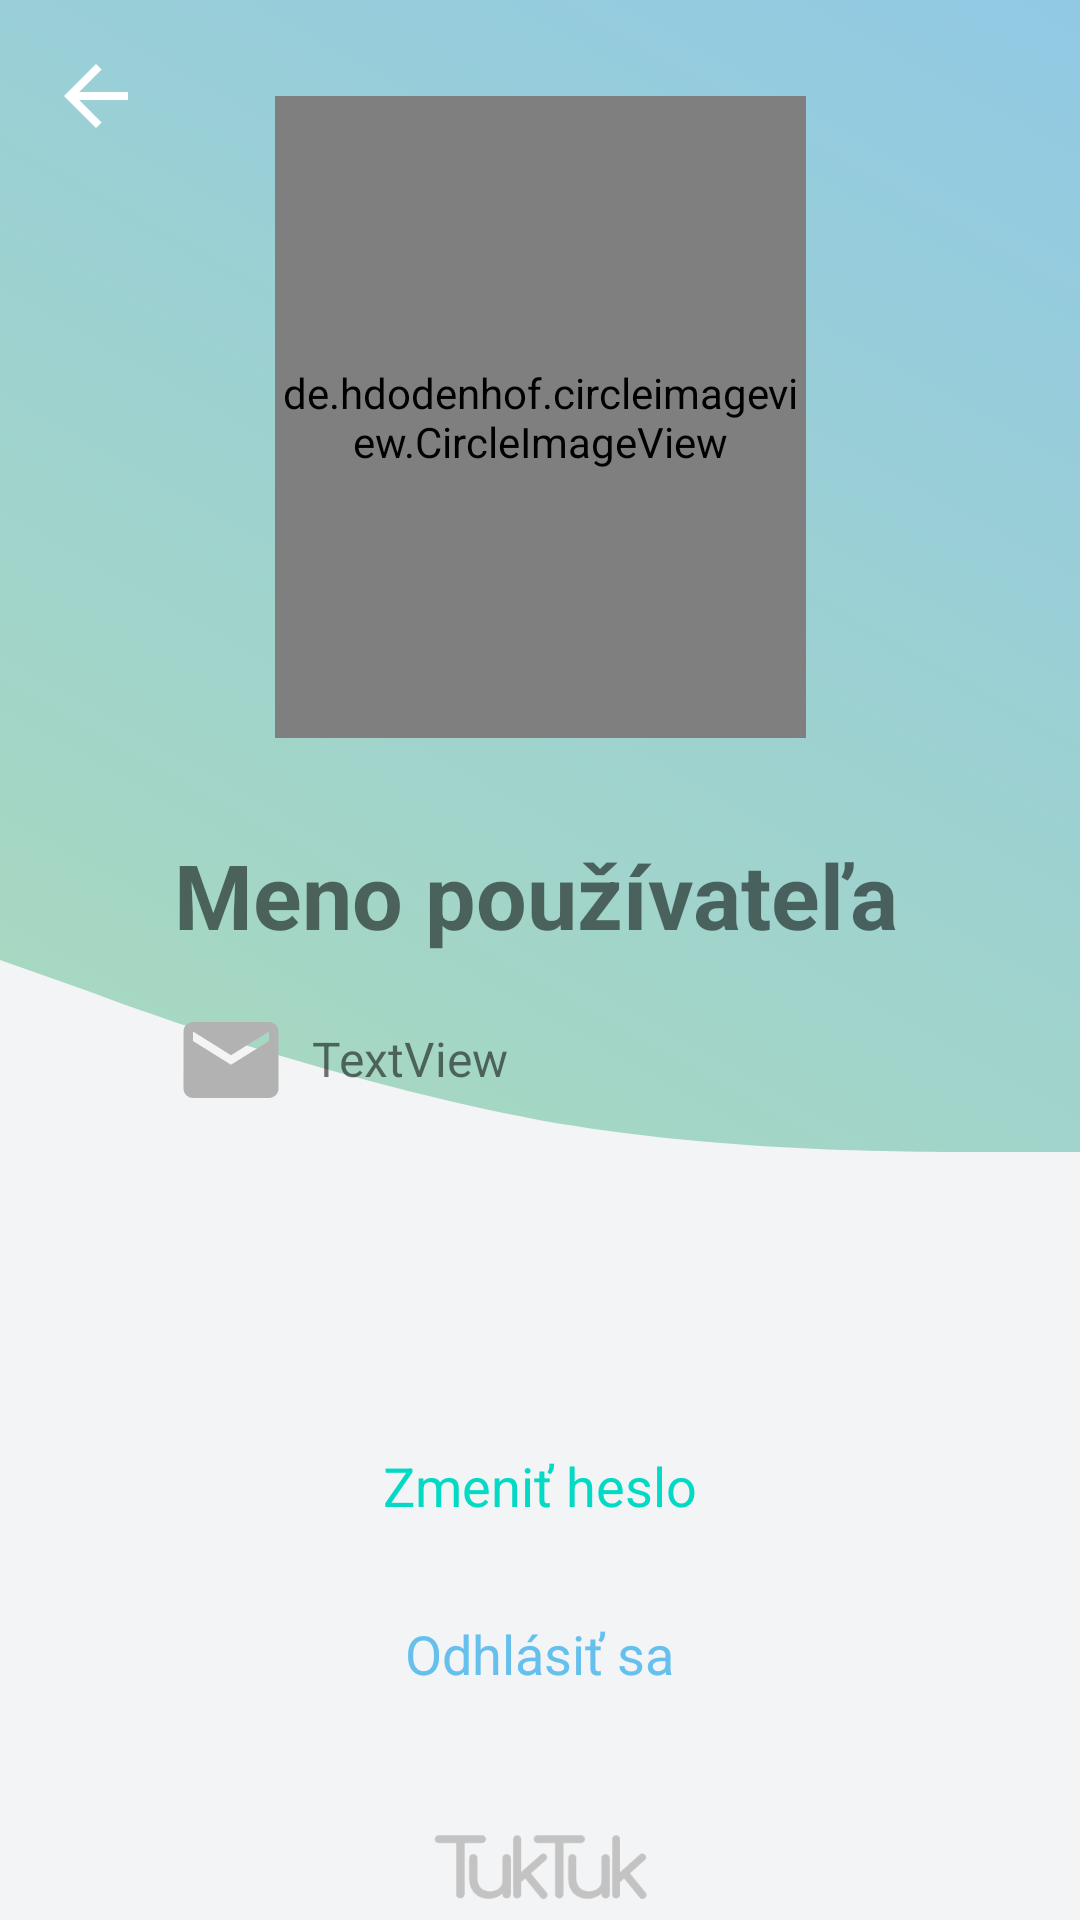

Named icons in this screenshot (1080 × 1920) and their centers, point (x, y):
mail: point (231, 1060)
